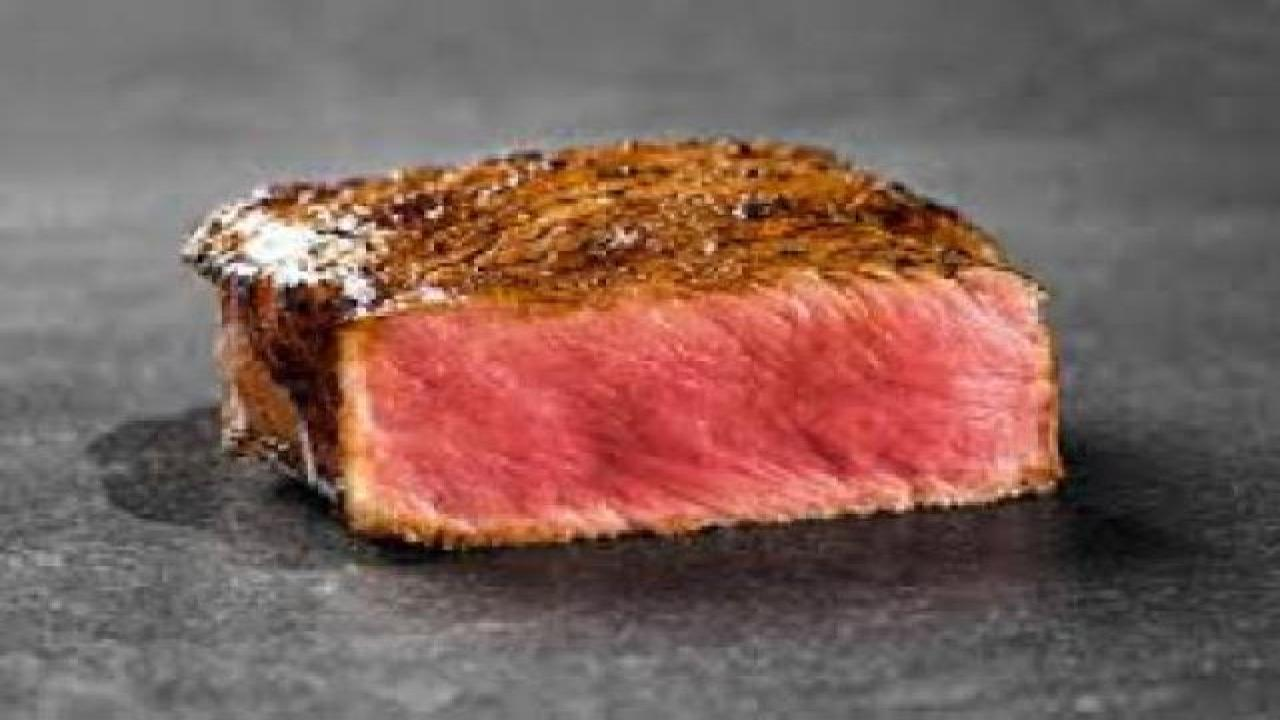Carne: (308, 248, 1063, 568)
